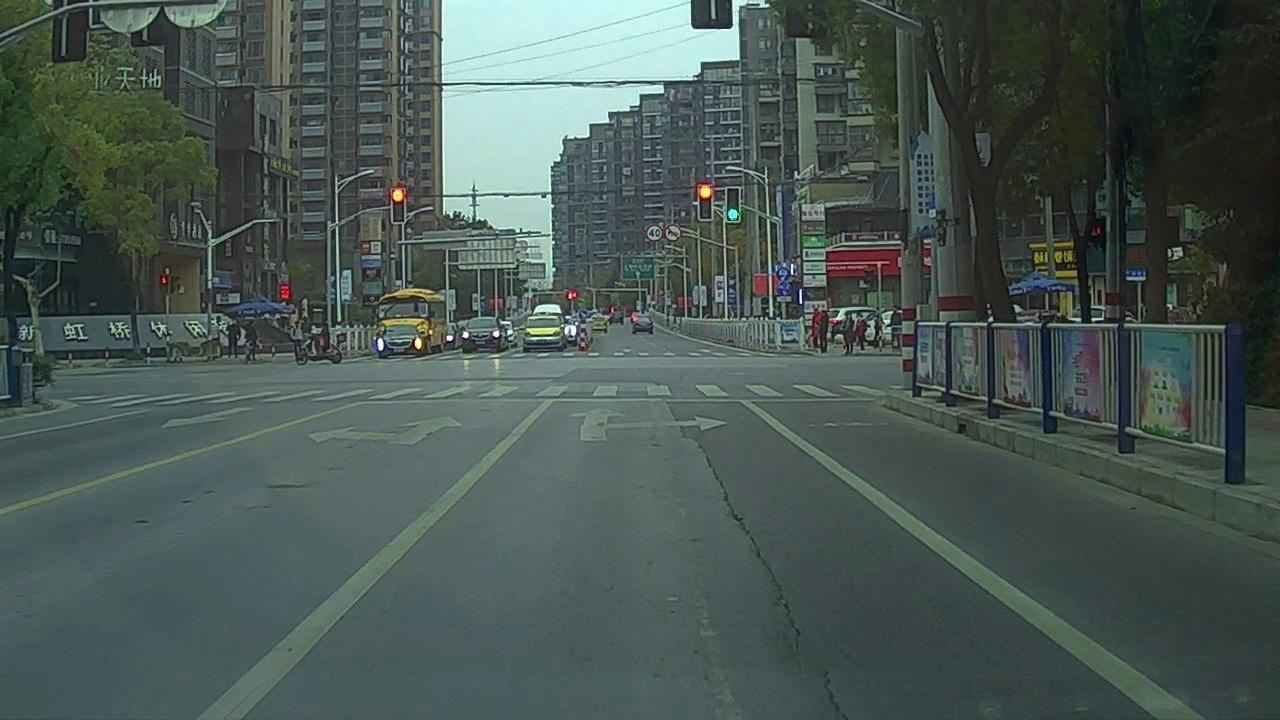traffic_light: (698, 184, 711, 219), (726, 189, 739, 222), (392, 189, 403, 222)
